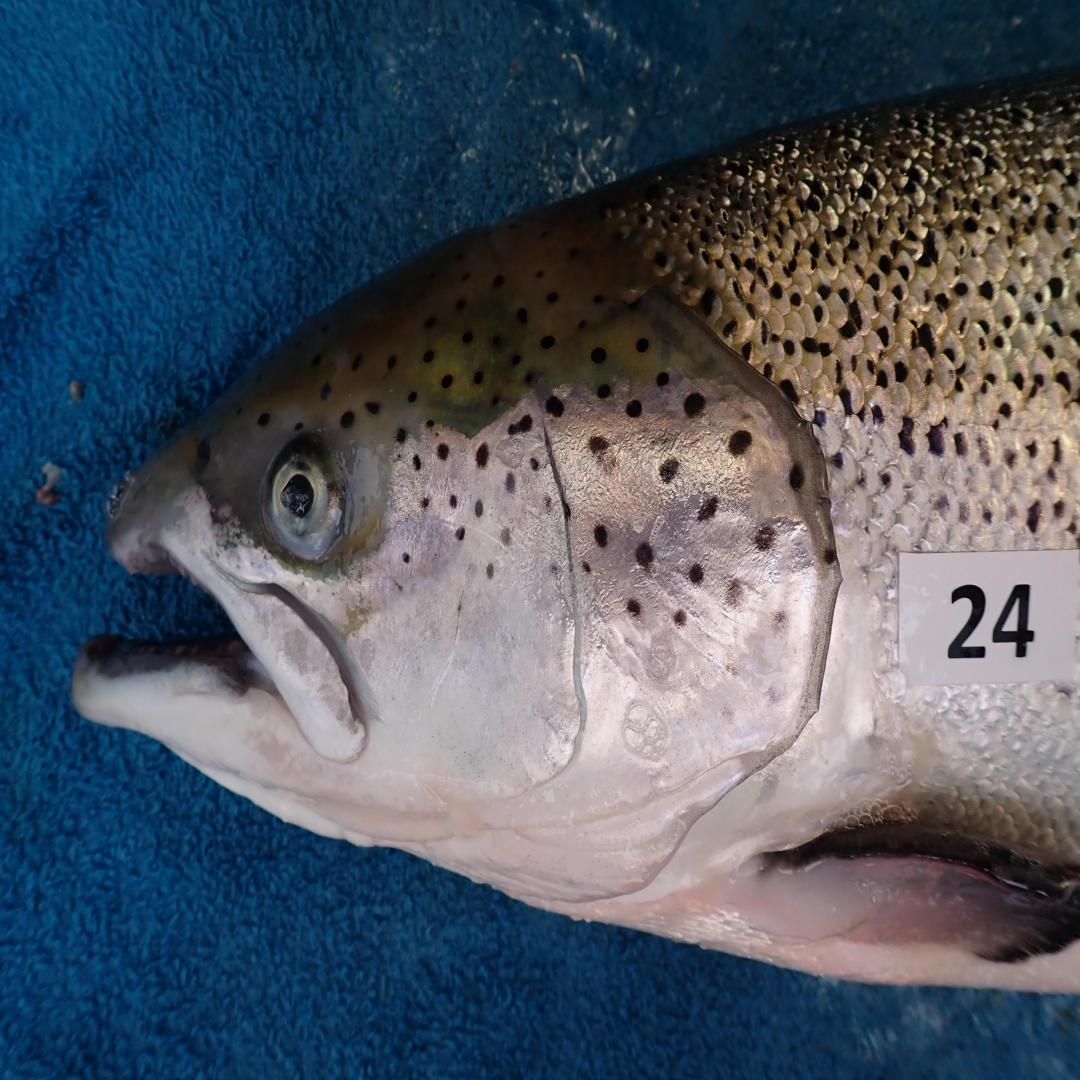spot: (728, 430, 753, 456), (508, 413, 532, 436), (726, 579, 745, 608), (658, 458, 679, 484), (698, 495, 719, 520), (755, 526, 776, 551), (683, 394, 705, 416), (635, 543, 654, 568), (589, 436, 610, 456), (789, 461, 804, 489), (688, 562, 705, 585), (546, 397, 565, 416), (595, 523, 608, 548), (561, 495, 572, 523), (774, 609, 788, 629), (477, 444, 489, 467), (626, 599, 641, 616), (626, 399, 641, 416), (673, 610, 686, 627), (504, 472, 515, 492), (437, 444, 449, 461), (825, 548, 837, 565), (500, 526, 510, 546), (656, 371, 669, 385), (420, 495, 430, 509), (475, 501, 483, 518), (529, 458, 540, 470), (413, 456, 422, 470), (582, 560, 591, 574), (487, 562, 494, 579), (456, 526, 464, 540), (449, 495, 458, 506), (544, 496, 551, 510), (551, 562, 557, 573), (403, 554, 409, 562)
